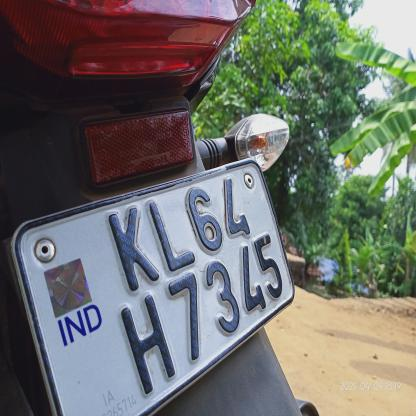Number_Plate_Detected: (20, 166, 292, 400)
